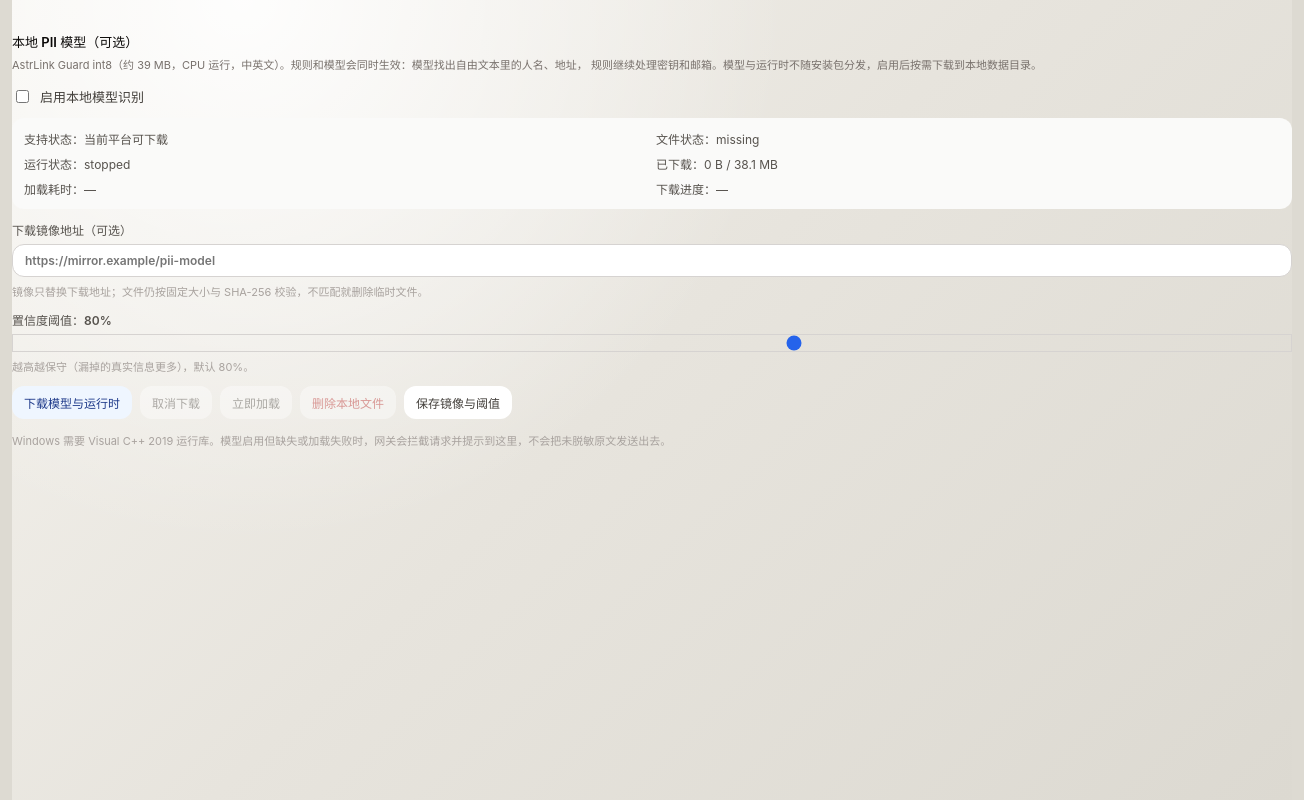
Test: PiiModelSettings › shows status and starts a download with the configured mirror
The image size is (1304, 800).
Expected: the text "支持状态：当前平台可下载" is shown, [24,132,168,147]
Expected: the text "文件状态：missing" is shown, [656,132,760,147]
In the field labelled "下载镜像地址": (652, 260) [12,244,1292,277], type "https://mirror.example/pii"
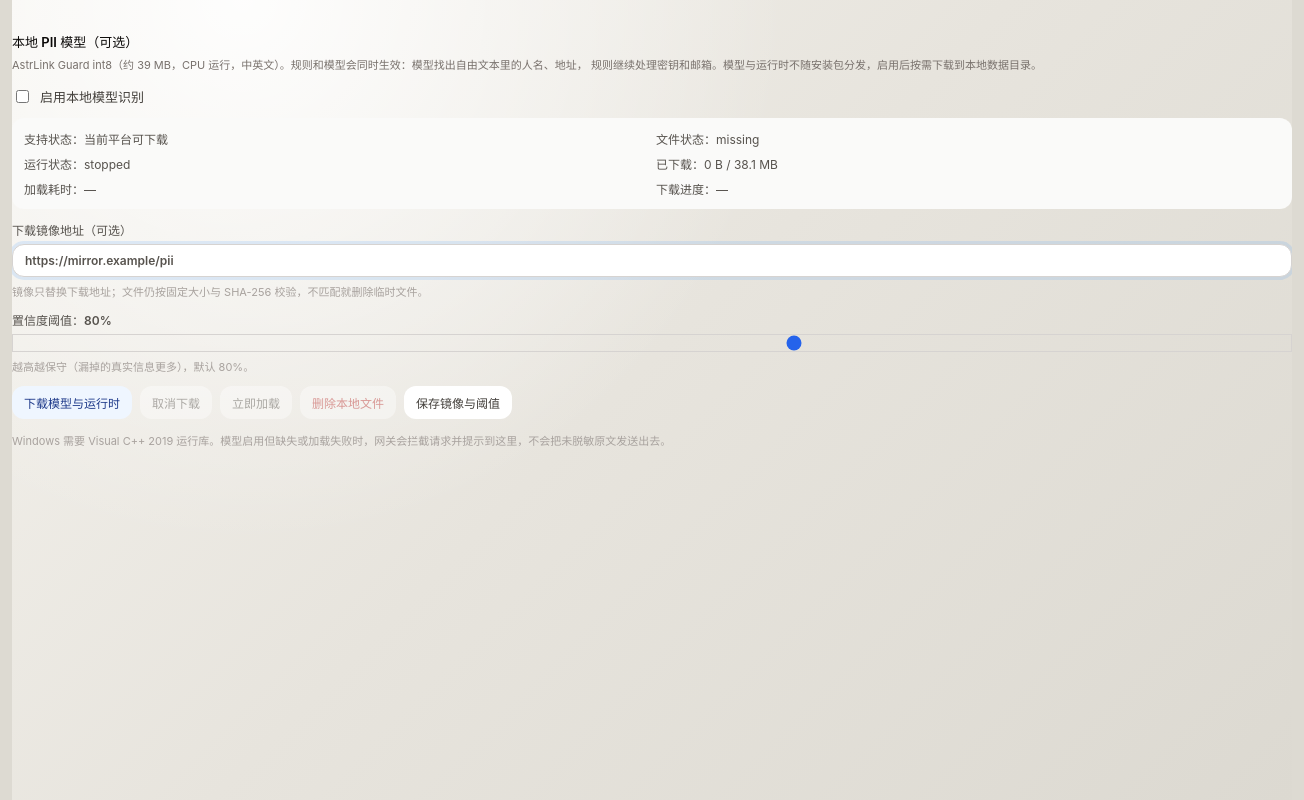
Click the button "保存镜像与阈值": (458, 402) [404,386,512,419]
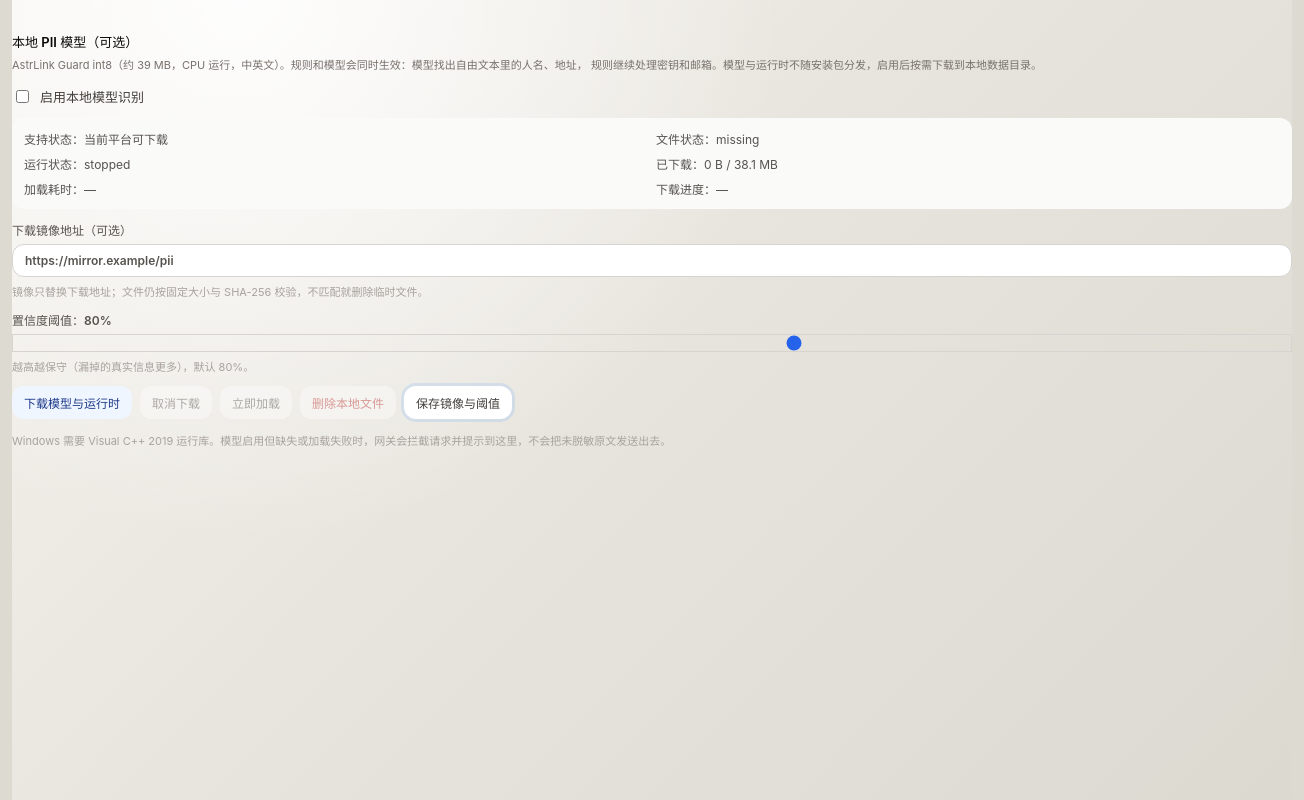
Click the button "下载模型与运行时": (72, 402) [12,386,132,419]
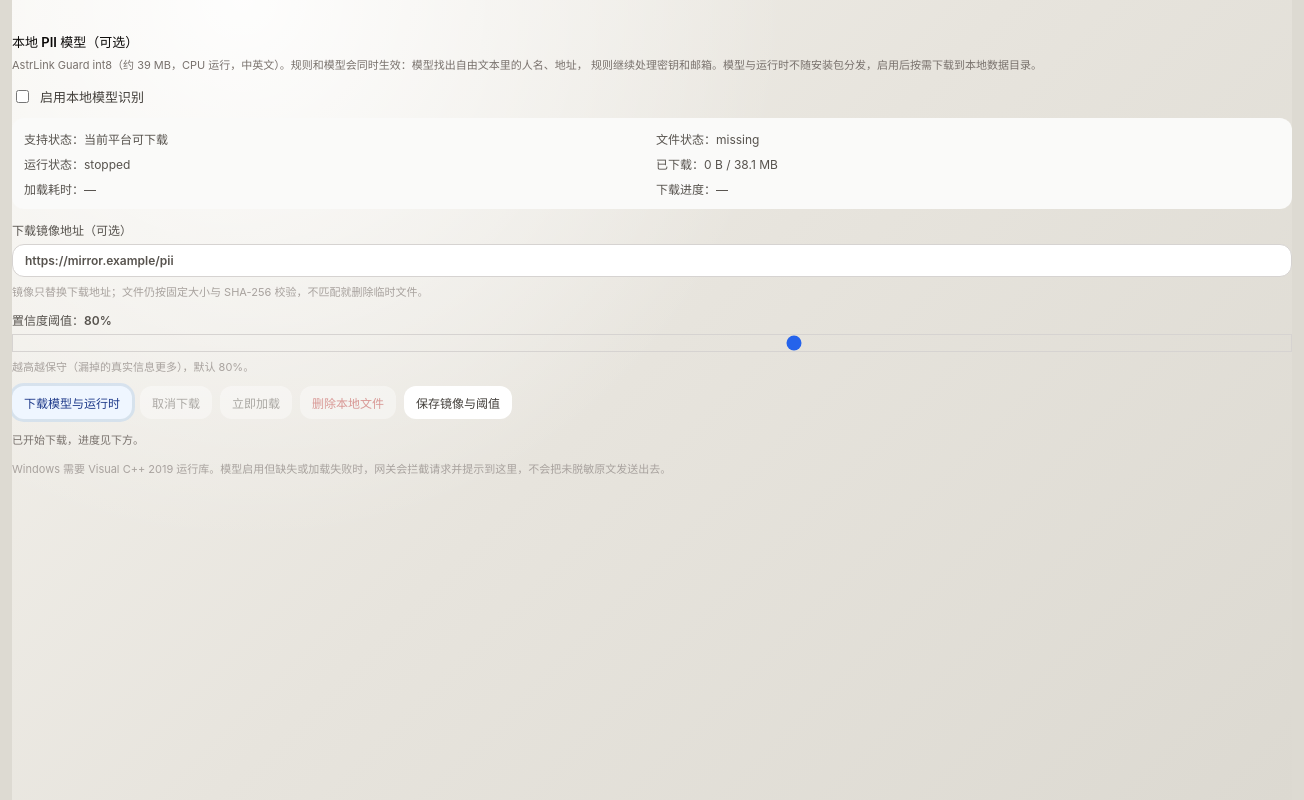
Result: the text "已开始下载，进度见下方。" is shown at [12,433,144,447]
